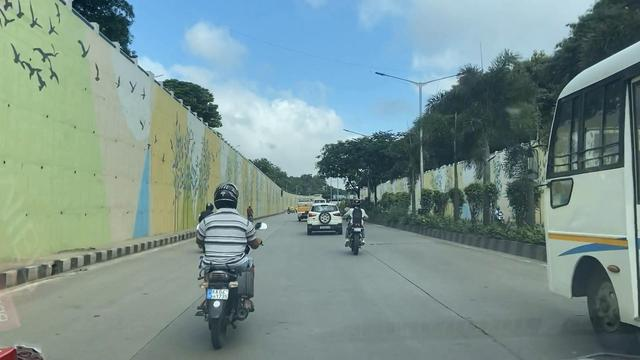LMV: (204, 182, 255, 340), (307, 203, 339, 236), (349, 199, 364, 255)
